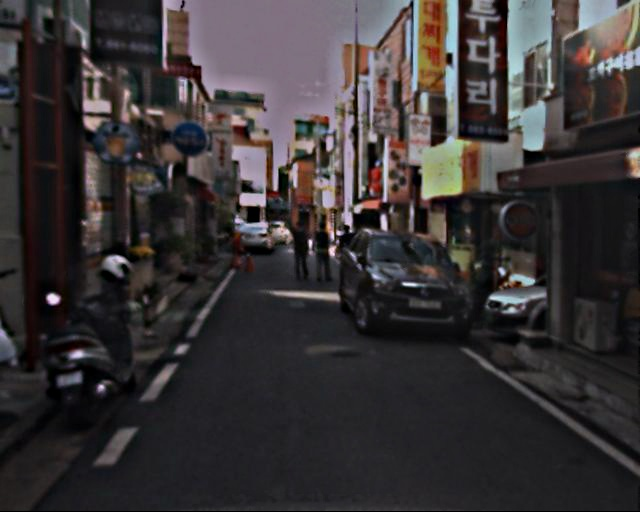person: (288, 220, 314, 283), (310, 221, 335, 283), (334, 224, 357, 281)
